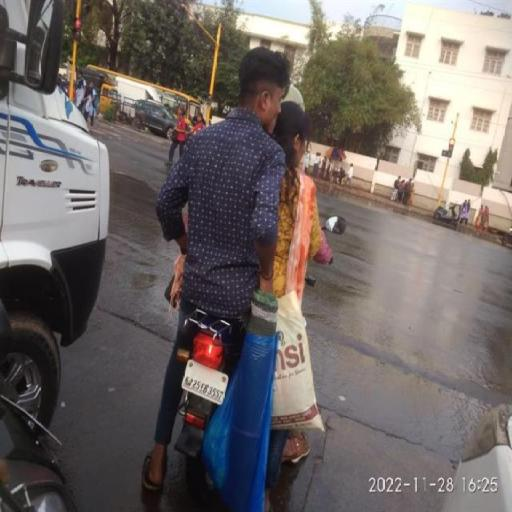tripple riding: (153, 42, 341, 318)
